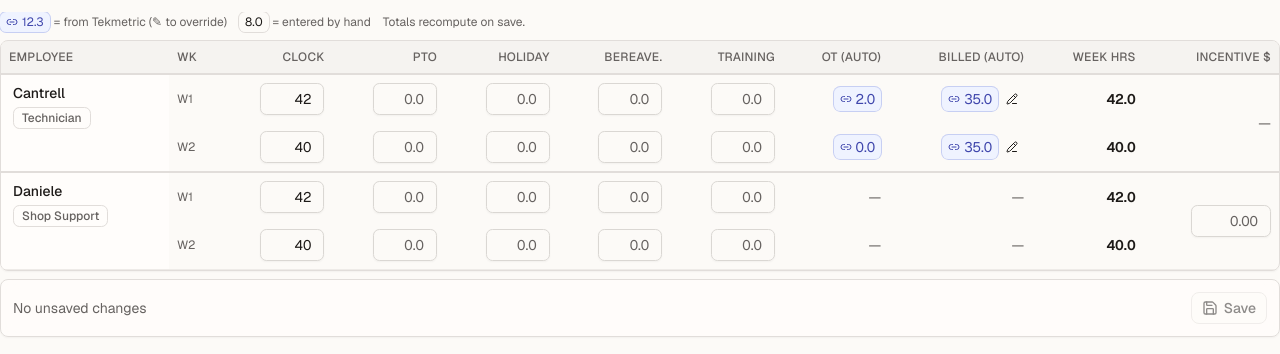
Test: EntryGrid › disables Save while the batch is in flight
Type "8" into the field named "Cantrell week 1 pto hours" at (405, 99), box [373,83,437,115]
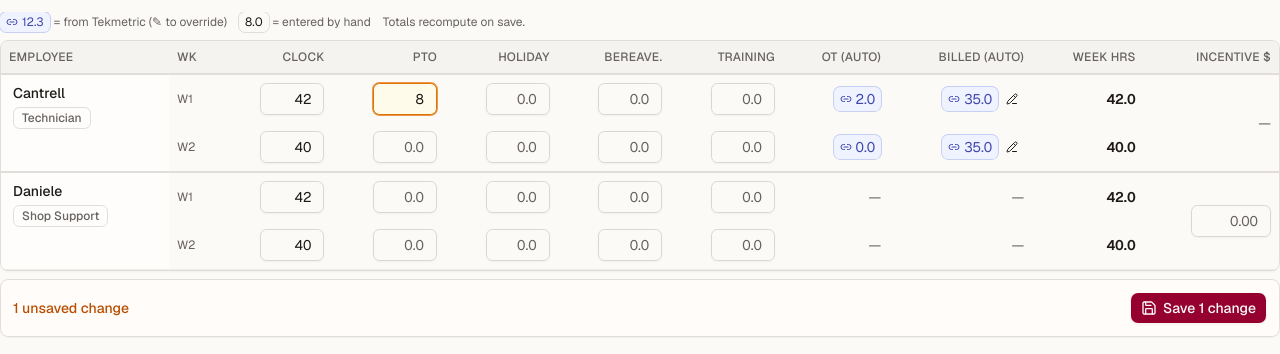
Click the button "Save 1 change" at (1198, 308), box [1130,292,1267,324]
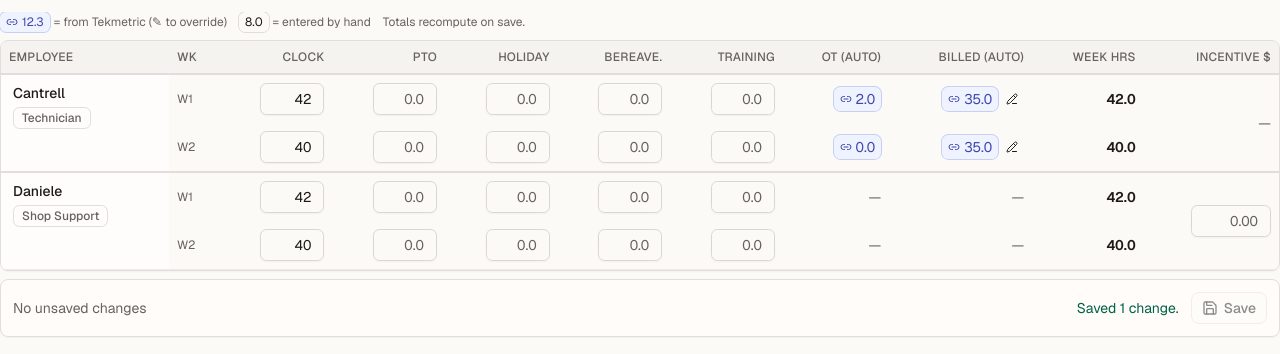
Check: the button named "saving" is disabled, box [1191,292,1267,324]
